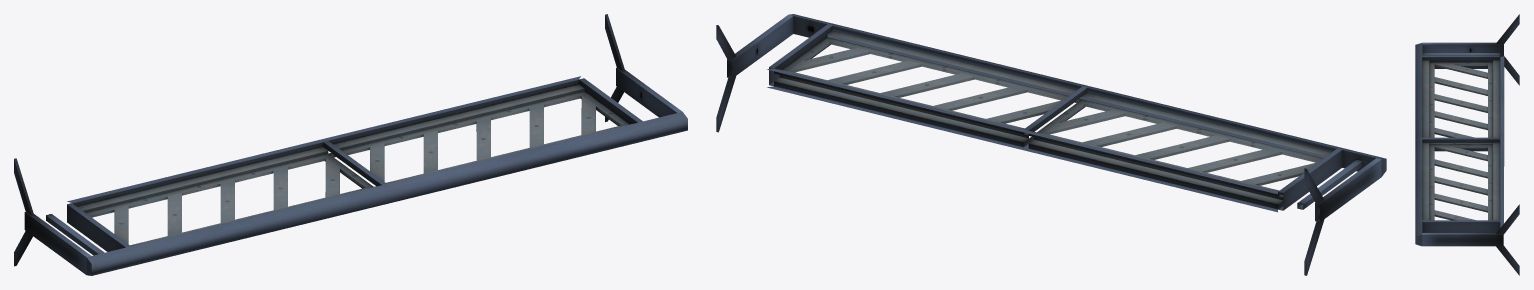
The model's file is nt_2020_vista_barricade_01_LOD1.obj.
3 views of the same model, side by side, from view 1: azimuth 30°, elevation 25°; view 2: azimuth 150°, elevation 25°; view 3: azimuth 270°, elevation 25° (orthographic). The views are drawn at different scales.
Visible parts, largest first — view 1: mtl_nt_2020_street_gate_01; view 2: mtl_nt_2020_street_gate_01; view 3: mtl_nt_2020_street_gate_01.
Part boxes in pixels (x1,y1,x2,y2): mtl_nt_2020_street_gate_01: (14,14,687,275); mtl_nt_2020_street_gate_01: (716,14,1386,275); mtl_nt_2020_street_gate_01: (1415,14,1519,275).
Bounding box in the file's own units: 418 × 72.1 × 95.94.
